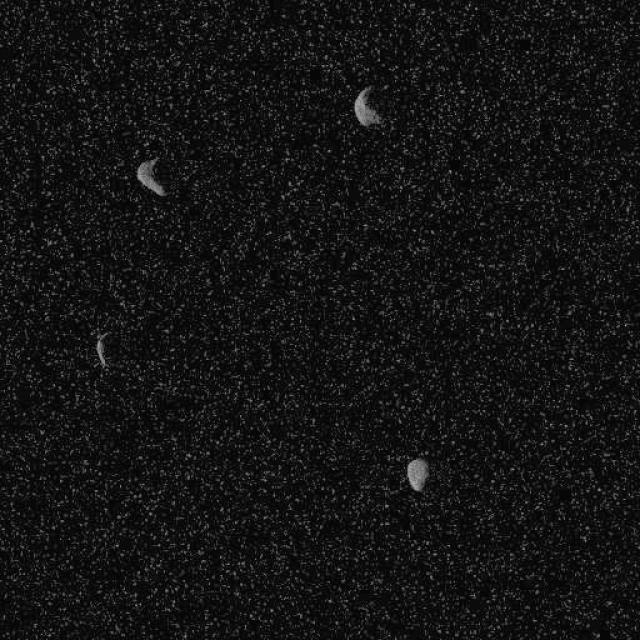D2: (352, 84, 382, 128), (135, 156, 166, 196), (405, 456, 429, 492), (94, 330, 110, 369)
